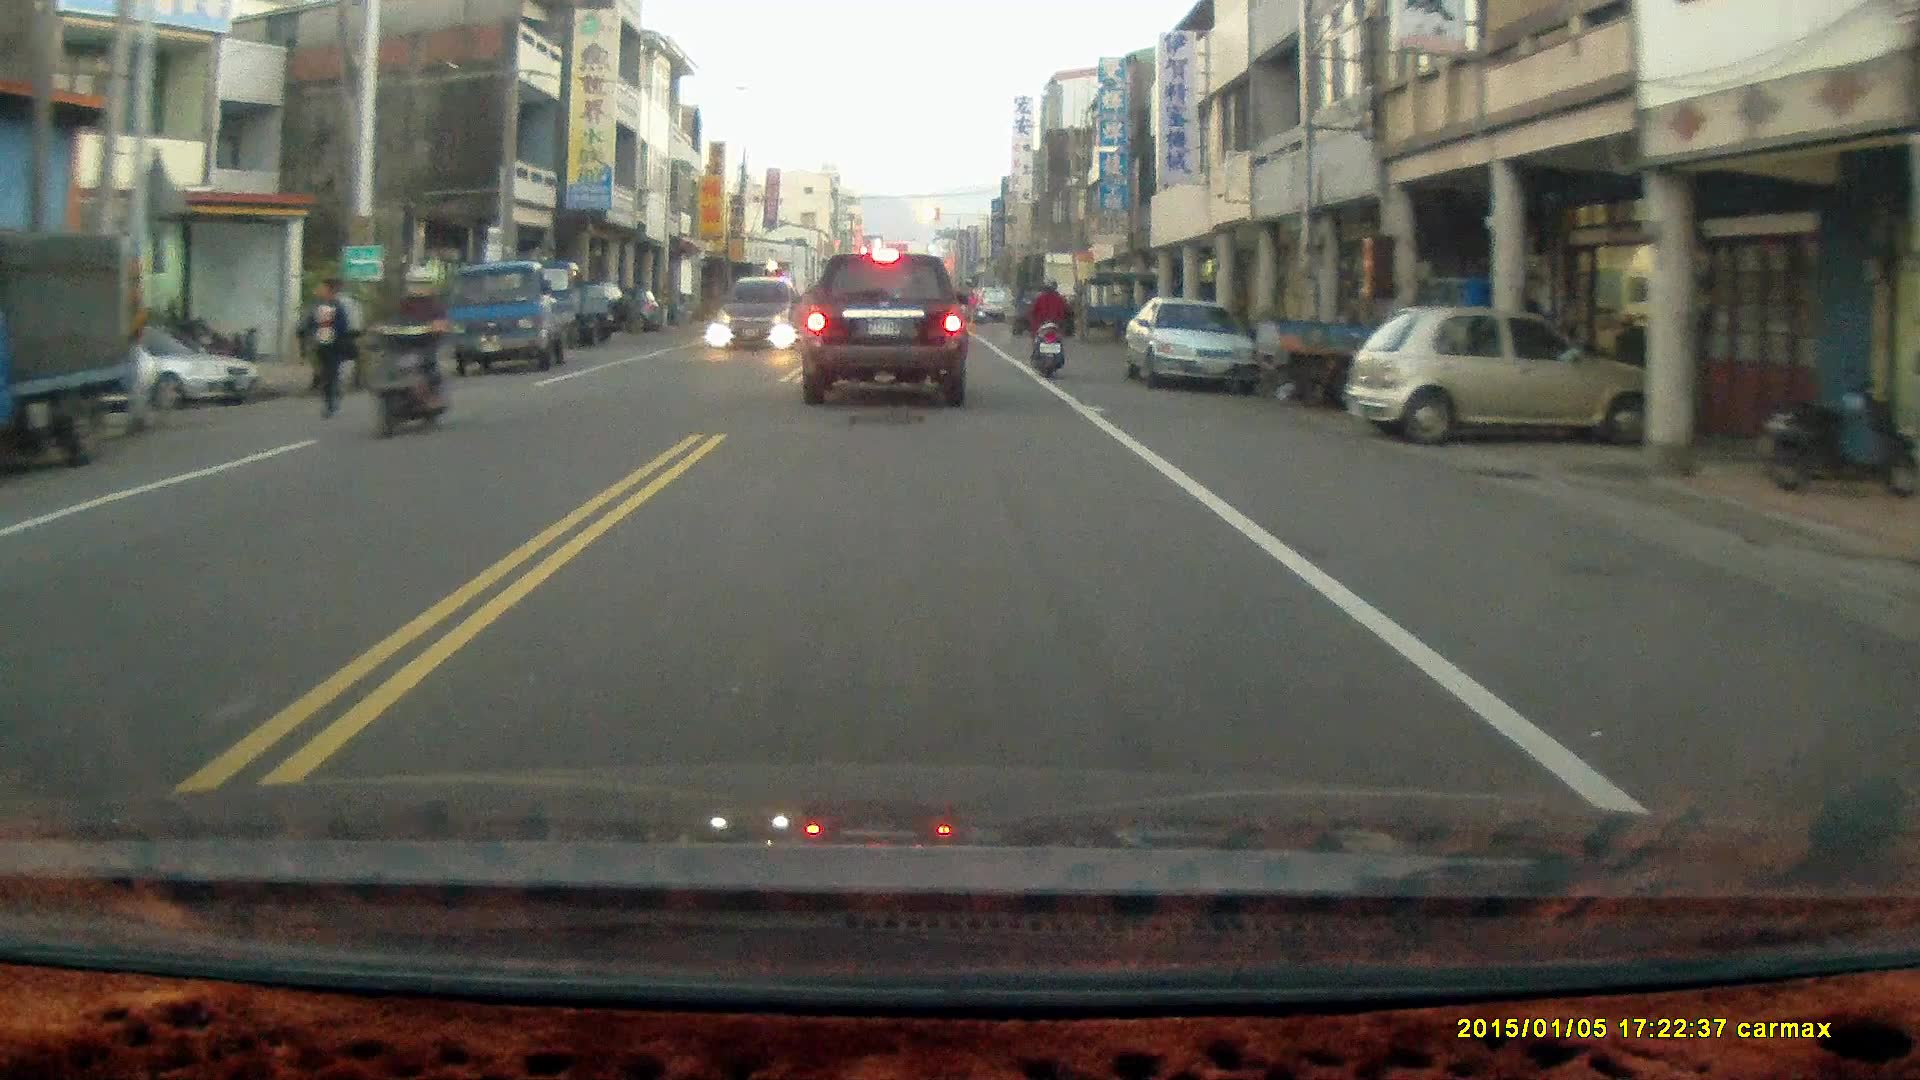pedestrian: (292, 274, 359, 419)
rider: (356, 257, 450, 442), (1028, 275, 1069, 377)
vehicle: (1356, 309, 1660, 452), (1, 226, 134, 488), (795, 251, 972, 414), (444, 265, 595, 378), (77, 317, 256, 407), (1125, 303, 1268, 394), (714, 276, 800, 352)
